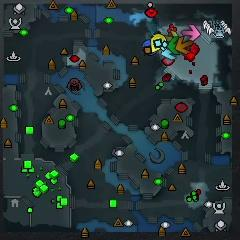p1: (142, 39, 155, 56)
p4: (150, 34, 166, 53)
x1: (181, 24, 200, 42)
x3: (161, 48, 176, 61)
x4: (168, 37, 181, 55)
x5: (175, 37, 192, 54)
